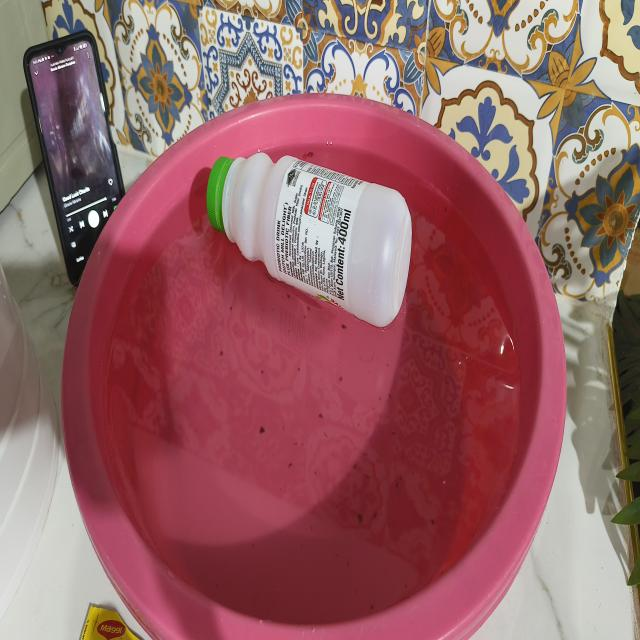Plastic Bottle: (207, 152, 412, 327)
